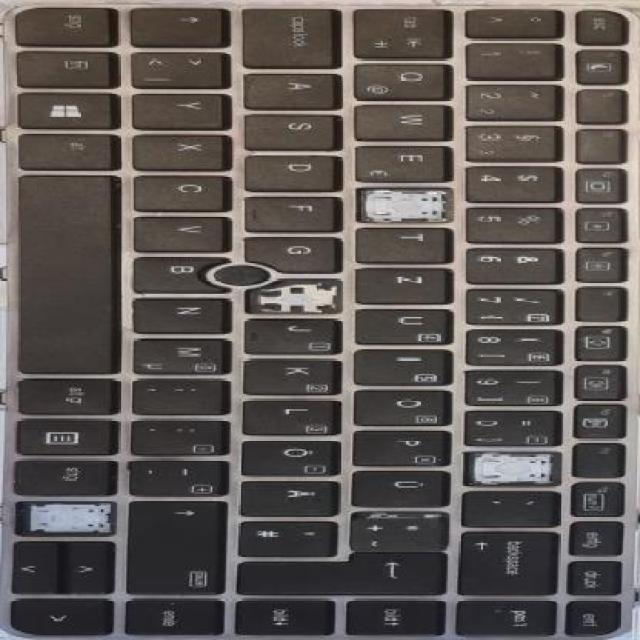Keyboard problems: (357, 189, 448, 222), (466, 452, 558, 483), (22, 503, 112, 534), (249, 283, 338, 312)
